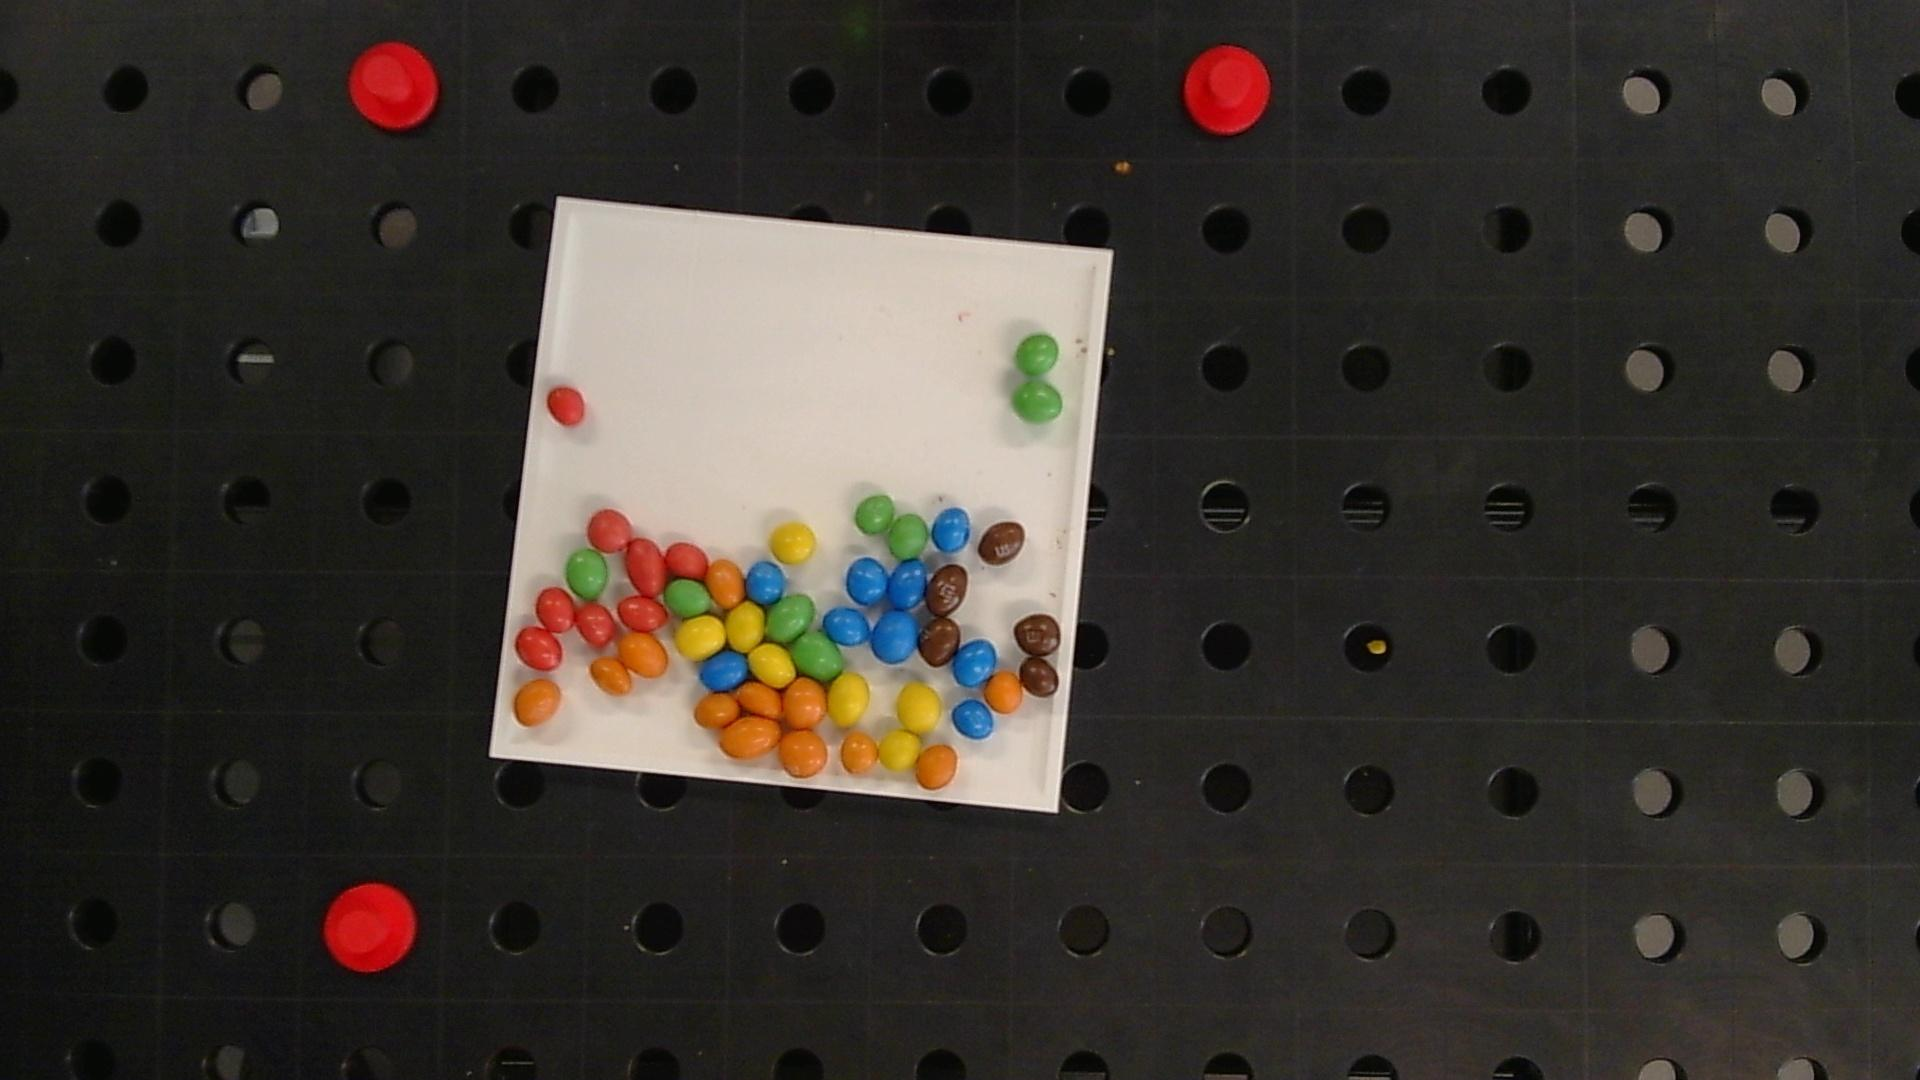blue: (870, 612, 919, 662), (952, 640, 997, 687), (847, 558, 887, 605), (889, 560, 927, 611), (700, 651, 748, 691), (823, 608, 870, 646), (952, 699, 994, 738), (932, 508, 971, 551), (746, 562, 785, 603)
brown: (977, 521, 1026, 566), (927, 564, 968, 616), (919, 618, 961, 666), (1014, 615, 1060, 657), (1019, 658, 1059, 696)
green: (793, 632, 843, 679), (1011, 381, 1064, 423), (766, 595, 814, 641), (566, 549, 608, 599), (887, 513, 928, 558), (666, 578, 711, 616), (855, 495, 894, 534)
orange: (719, 716, 782, 758), (778, 731, 828, 777), (514, 679, 562, 725), (618, 633, 667, 678), (915, 740, 957, 791), (783, 679, 825, 728), (708, 559, 745, 607), (984, 671, 1023, 713), (840, 733, 880, 774), (589, 657, 632, 695), (737, 682, 781, 717), (695, 694, 738, 728)
red: (626, 538, 666, 595), (514, 628, 562, 670), (587, 509, 632, 551), (574, 603, 615, 646), (618, 596, 667, 630), (535, 588, 574, 632), (666, 541, 708, 579), (546, 386, 585, 426)
yellow: (675, 615, 725, 661), (897, 683, 942, 733), (828, 674, 869, 727), (770, 522, 816, 563), (727, 603, 765, 651), (752, 645, 795, 686), (878, 731, 920, 770)
